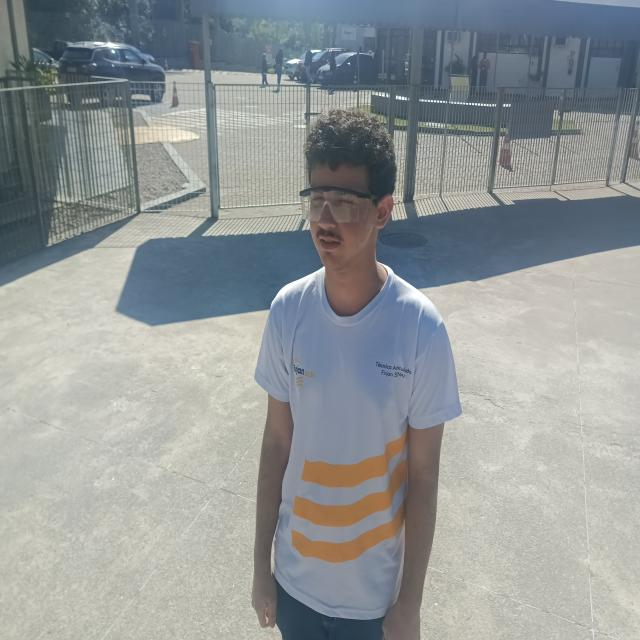oculos-epi: (299, 188, 381, 223)
